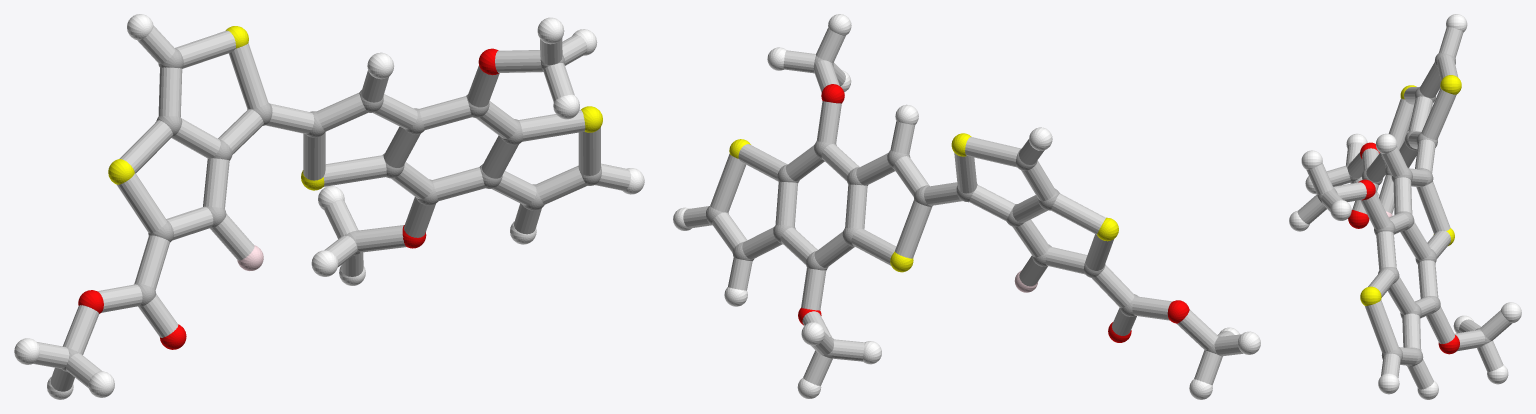
The model's file is color.glb.
3 renders of one model, left to right at view 1: azimuth 30°, elevation 25°; view 2: azimuth 150°, elevation 25°; view 3: azimuth 270°, elevation 25°, orthographic. The views are drawn at different scales.
Visible parts, largest first — view 1: grp15205, grp8689, grp1, grp7241, grp13395; view 2: grp15205, grp8689, grp1, grp7241, grp13395; view 3: grp15205, grp8689, grp1, grp13395, grp7241.
Part boxes in pixels (x1,y1,x2,y2): grp15205: [33, 25, 630, 391]; grp8689: [14, 14, 644, 399]; grp1: [61, 48, 601, 371]; grp7241: [108, 26, 602, 190]; grp13395: [78, 48, 498, 349]; grp15205: [683, 28, 1243, 385]; grp8689: [673, 14, 1260, 399]; grp1: [706, 56, 1220, 358]; grp7241: [729, 133, 1118, 272]; grp13395: [798, 84, 1189, 342]; grp15205: [1297, 27, 1511, 389]; grp8689: [1289, 14, 1521, 399]; grp1: [1317, 52, 1491, 366]; grp13395: [1348, 142, 1459, 354]; grp7241: [1360, 75, 1461, 305].
Size of the model in its own units: 16.7 by 8.55 by 6.54.
